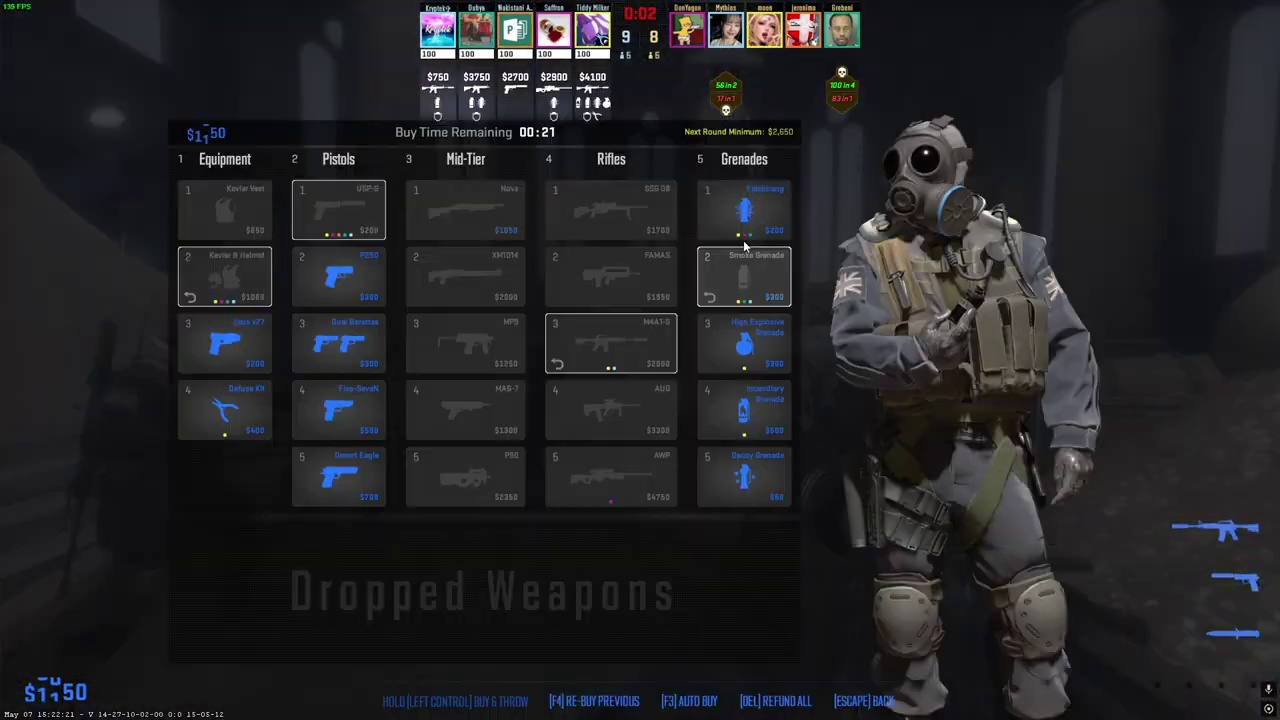CT: (851, 120, 1077, 720)
